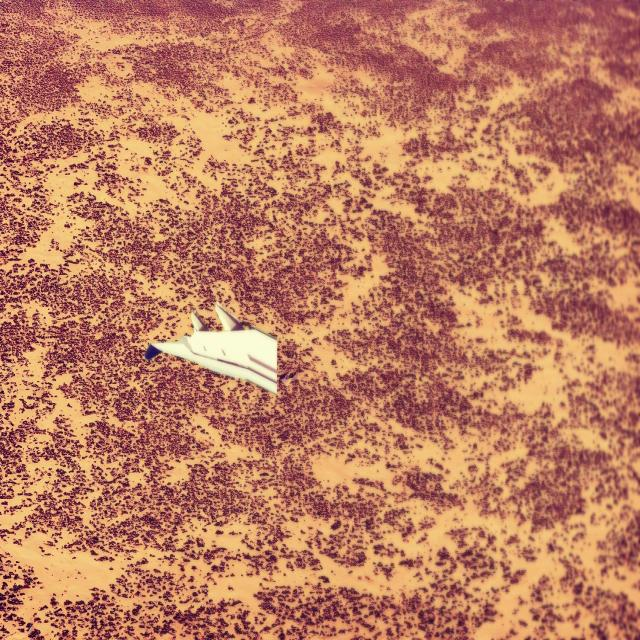airplane: (145, 300, 278, 396)
